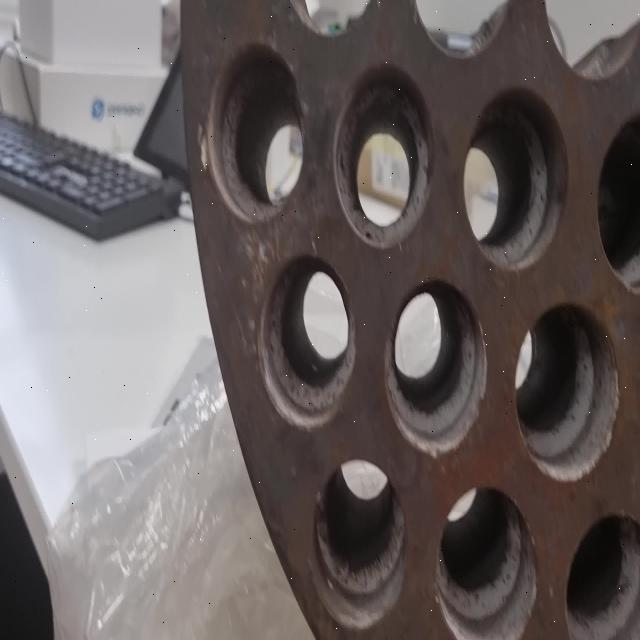Hole: (463, 86, 569, 272), (515, 298, 620, 484), (200, 42, 307, 223), (333, 60, 433, 250), (386, 277, 488, 457), (258, 252, 357, 430), (311, 458, 408, 632), (435, 486, 539, 640), (566, 511, 639, 639), (597, 109, 640, 294)
